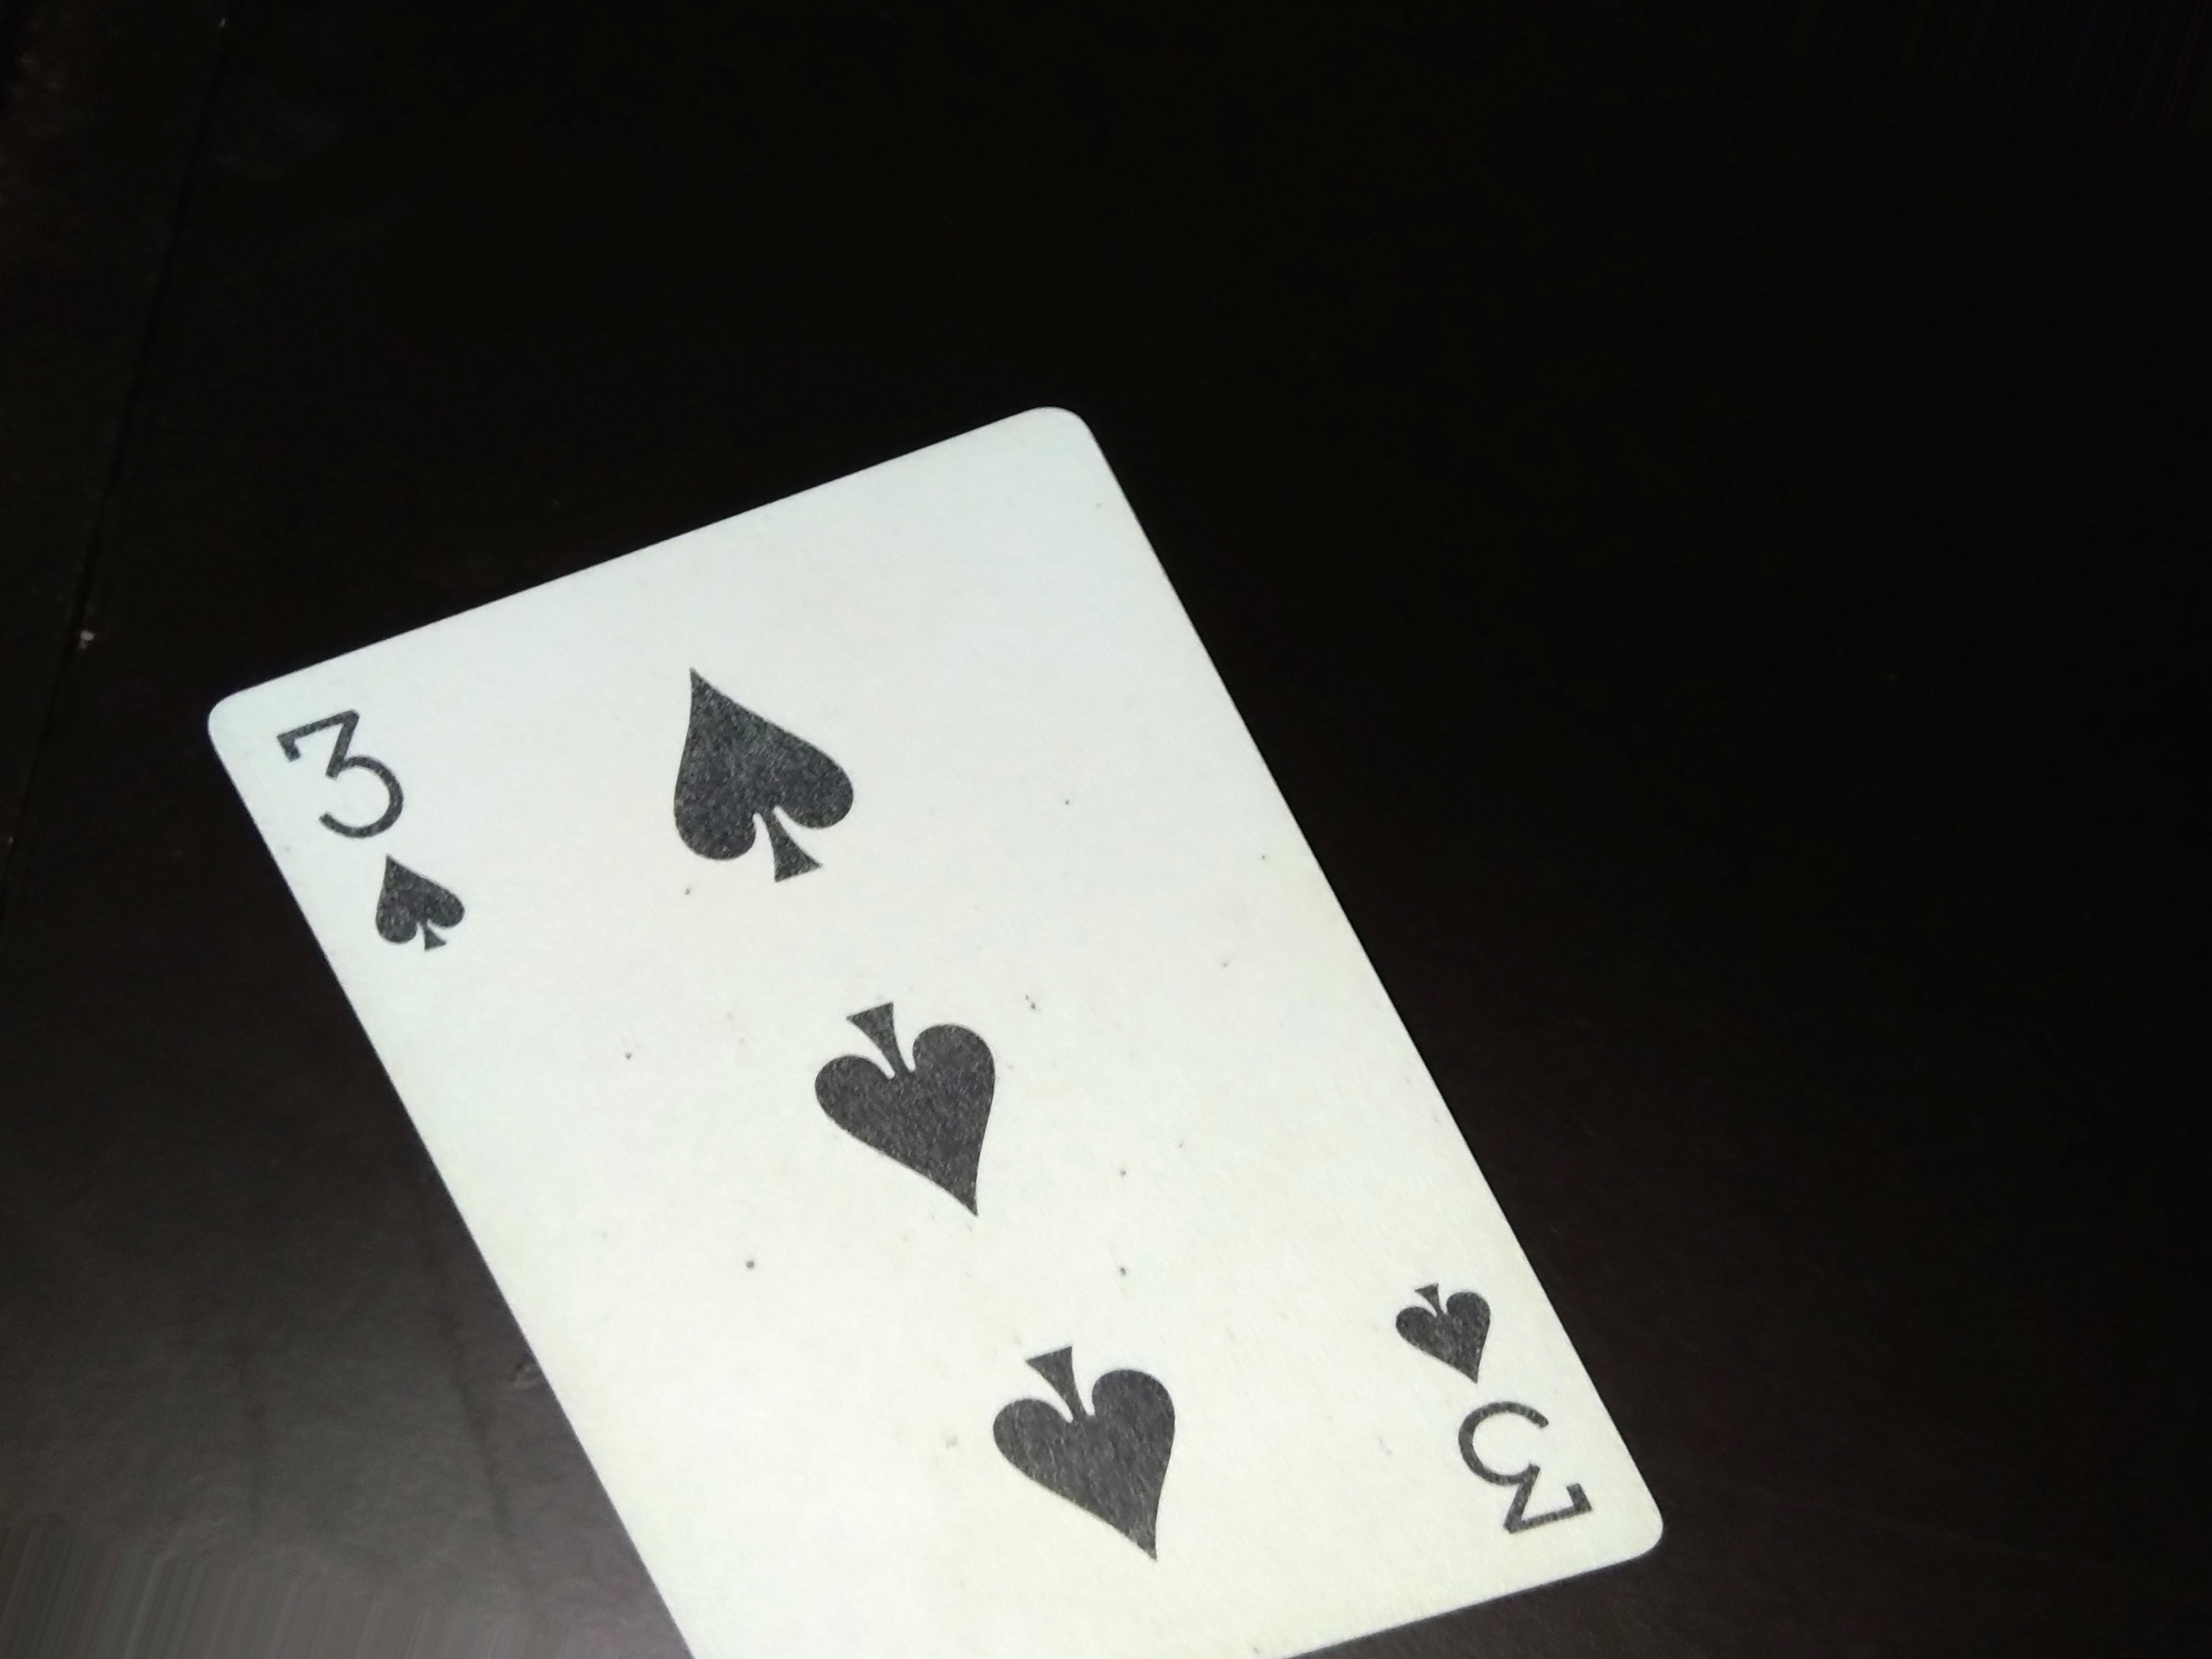3S: (256, 704, 496, 962)
